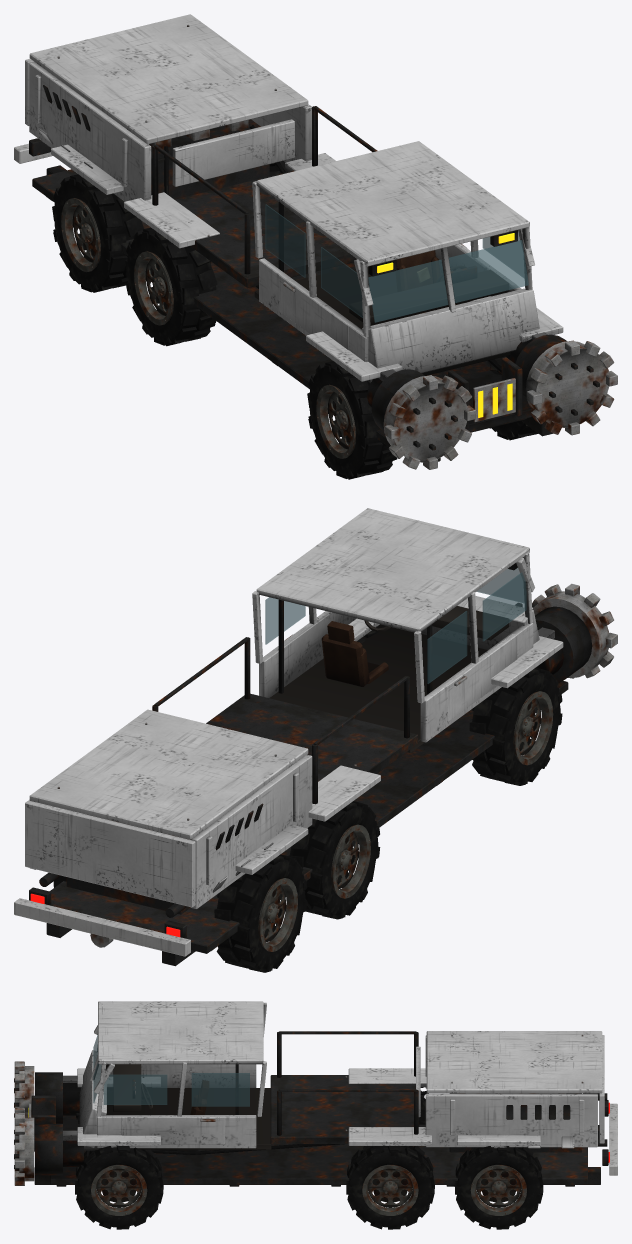
Rendered from boss_deepwarden.glb.
3 renders of one model, top to bottom at view 1: azimuth 30°, elevation 25°; view 2: azimuth 150°, elevation 25°; view 3: azimuth 270°, elevation 25°, orthographic. The views are drawn at different scales.
Parts seen in each view (by area): view 1: body, panel_trunk, wheel_MR, drill_R, drill_L, wheel_RR, wheel_FR, panel_fender_R, panel_door_R, weak_drill_drive, panel_fender_L; view 2: body, panel_trunk, wheel_RR, wheel_FR, wheel_MR, drill_R, panel_fender_R, panel_bumper_R, panel_door_R; view 3: body, panel_trunk, wheel_ML, wheel_RL, wheel_FL, panel_fender_L, drill_L, panel_door_L, drill_R, panel_fender_R, panel_bumper_R.
Boxes of the visible parts, x1,y1,x2,y2 form: body: (25, 58, 553, 461); panel_trunk: (29, 14, 308, 144); wheel_MR: (125, 227, 217, 346); drill_R: (371, 369, 475, 469); drill_L: (515, 334, 617, 435); wheel_RR: (52, 174, 143, 292); wheel_FR: (307, 361, 397, 479); panel_fender_R: (51, 144, 402, 381); panel_door_R: (279, 275, 349, 350); weak_drill_drive: (473, 378, 515, 422); panel_fender_L: (285, 153, 563, 342); body: (25, 508, 568, 966); panel_trunk: (29, 709, 308, 839); wheel_RR: (214, 854, 307, 972); wheel_FR: (469, 667, 562, 785); wheel_MR: (288, 801, 380, 919); drill_R: (532, 583, 617, 682); panel_fender_R: (235, 636, 563, 874); panel_bumper_R: (14, 898, 190, 956); panel_door_R: (445, 634, 517, 721); body: (31, 1001, 609, 1186); panel_trunk: (426, 1031, 602, 1093); wheel_ML: (346, 1146, 434, 1229); wheel_RL: (455, 1146, 543, 1229); wheel_FL: (75, 1146, 163, 1229); panel_fender_L: (77, 1127, 540, 1145); drill_L: (14, 1113, 62, 1185); panel_door_L: (121, 1116, 224, 1144); drill_R: (14, 1061, 62, 1123); panel_fender_R: (77, 1068, 426, 1087); panel_bumper_R: (609, 1103, 617, 1175).
Bounding box in the file's own units: 2.88 × 2.67 × 8.9.
13 materials, 9 textured.
